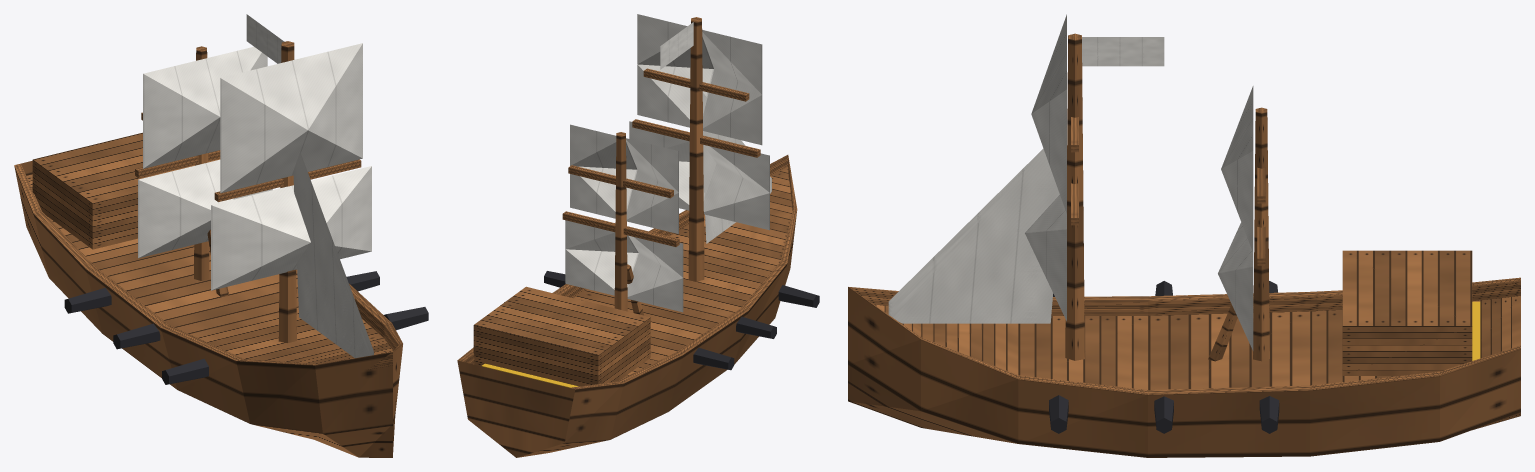
The model's file is ship.obj.
3 renders of one model, left to right at view 1: azimuth 30°, elevation 25°; view 2: azimuth 150°, elevation 25°; view 3: azimuth 270°, elevation 25°, orthographic. The views are drawn at different scales.
Parts seen in each view (by area): view 1: Hull, Sails; view 2: Hull, Sails; view 3: Hull, Sails.
Part boxes in pixels (left/top/right/bottom): Hull: left=14, top=41, right=428, bottom=457; Sails: left=138, top=14, right=373, bottom=358; Hull: left=457, top=17, right=819, bottom=457; Sails: left=565, top=14, right=771, bottom=312; Hull: left=848, top=33, right=1520, bottom=457; Sails: left=888, top=14, right=1253, bottom=350.
Bounding box in the file's own units: 2 × 2.82 × 4.15.
Materials: 4 (2 with a texture image).
